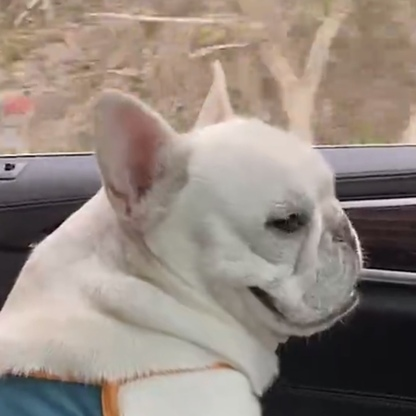bulldog: (48, 55, 373, 370)
